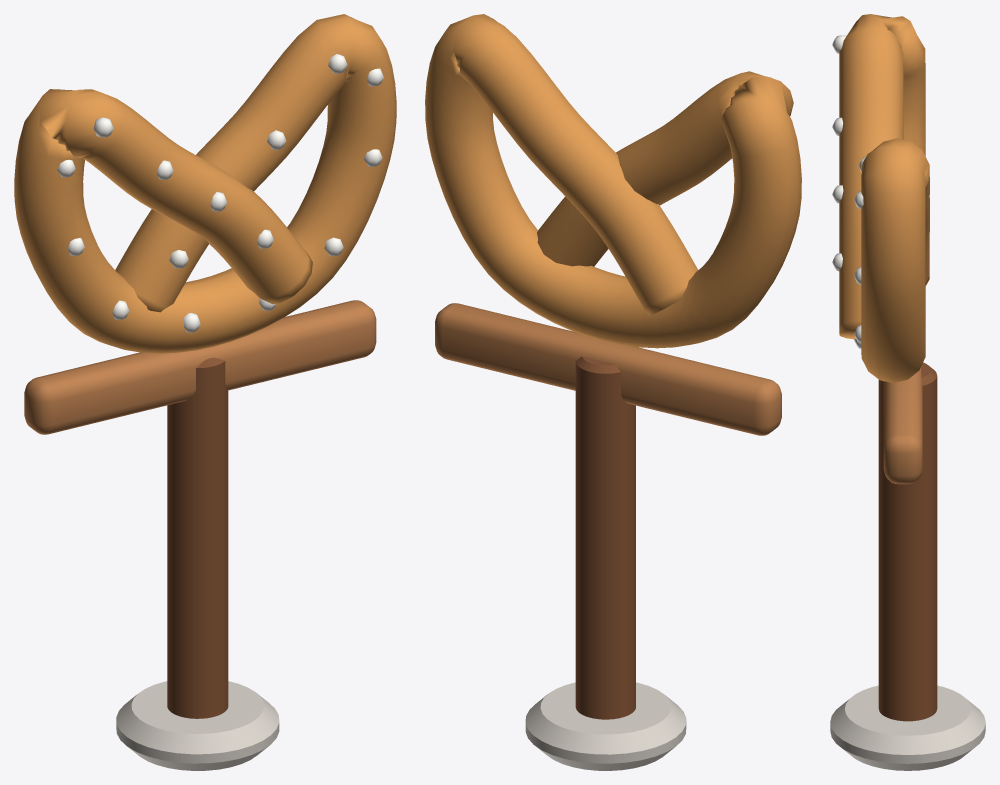
Rendered from pretzel_sign.fbx.
The picture shows the model from 3 angles, left to right: view 1: azimuth 30°, elevation 25°; view 2: azimuth 150°, elevation 25°; view 3: azimuth 270°, elevation 25°; orthographic projection. The views are drawn at different scales.
Visible parts, largest first — view 1: pretzel_sign_Crust, pretzel_sign_WoodDark, pretzel_sign_Wood, pretzel_sign_Stone, pretzel_sign_White; view 2: pretzel_sign_Crust, pretzel_sign_WoodDark, pretzel_sign_Wood, pretzel_sign_Stone; view 3: pretzel_sign_Crust, pretzel_sign_WoodDark, pretzel_sign_Stone, pretzel_sign_Wood, pretzel_sign_White.
Boxes of the visible parts, <box> form: pretzel_sign_Crust: <box>14,14,396,353</box>; pretzel_sign_WoodDark: <box>167,357,228,718</box>; pretzel_sign_Wood: <box>24,300,376,434</box>; pretzel_sign_Stone: <box>116,681,279,770</box>; pretzel_sign_White: <box>57,54,383,332</box>; pretzel_sign_Crust: <box>425,14,801,348</box>; pretzel_sign_WoodDark: <box>575,356,635,719</box>; pretzel_sign_Wood: <box>435,303,781,435</box>; pretzel_sign_Stone: <box>525,682,686,770</box>; pretzel_sign_Crust: <box>839,14,929,382</box>; pretzel_sign_WoodDark: <box>878,362,937,721</box>; pretzel_sign_Stone: <box>830,685,985,770</box>; pretzel_sign_Wood: <box>883,367,922,484</box>; pretzel_sign_White: <box>832,35,865,348</box>.
Size of the model in its own units: 16.87 by 30.12 by 6.4.
